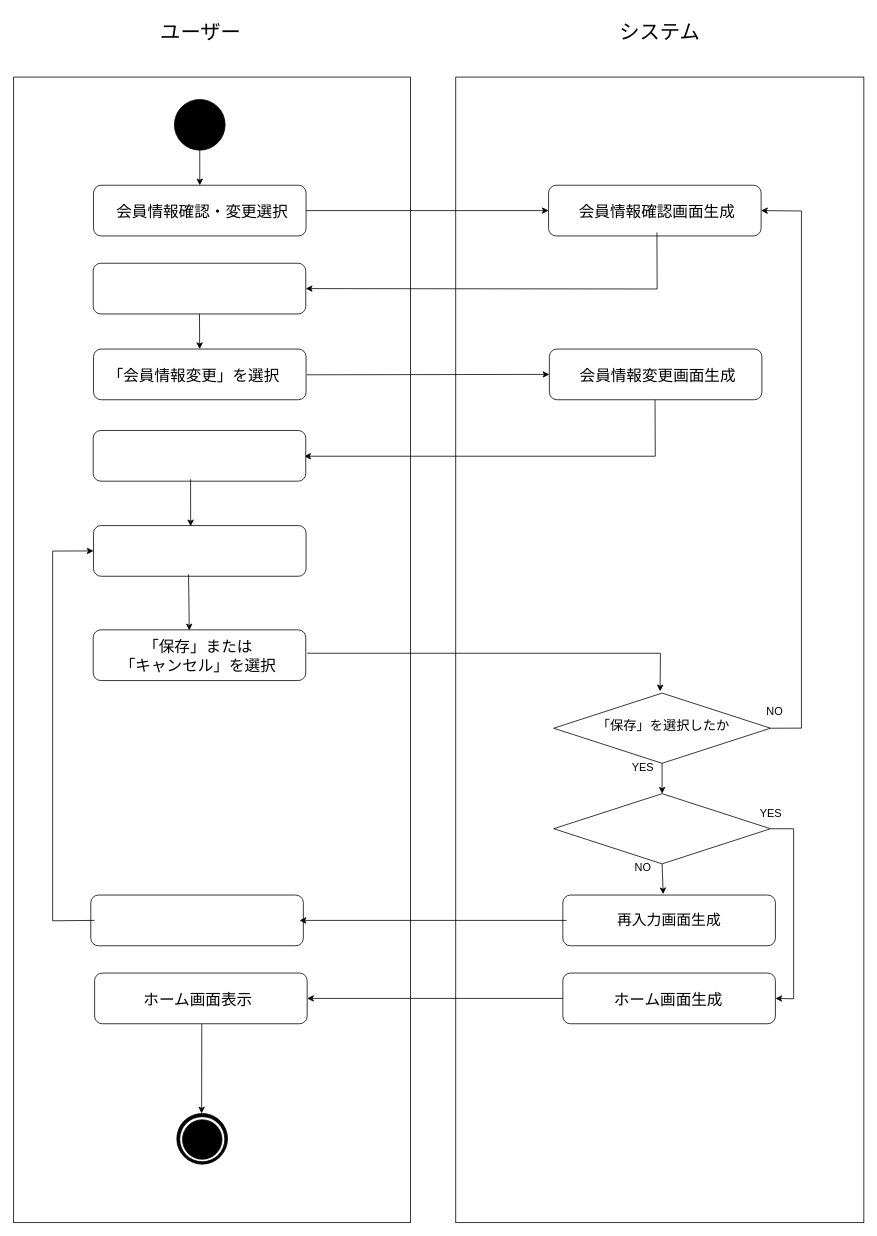
Image size: 877x1236. Some labels were removed from this diagram. The shapes that lost their labels are listed below. From the top down, each one's box as (x1, y1, x2, y2) in pixels, then its label:
(92, 262, 306, 314): 会員情報確認画面表示
(92, 430, 306, 481): 会員情報変更画面表示
(93, 525, 306, 576): 変更情報入力
(553, 793, 770, 864): 入力内容に不備はないか
(90, 894, 303, 946): 再入力画面表示
